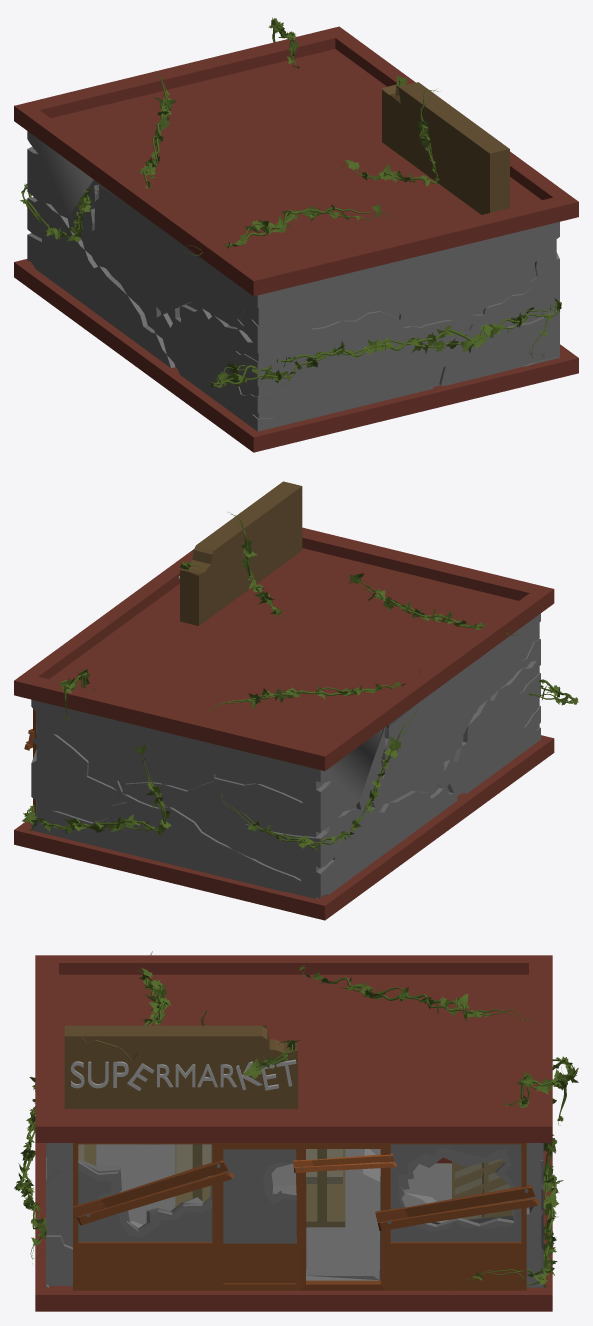
The model's file is Building9_Fix.fbx.
3 renders of one model, top to bottom at view 1: azimuth 30°, elevation 25°; view 2: azimuth 150°, elevation 25°; view 3: azimuth 270°, elevation 25°, orthographic. The views are drawn at different scales.
Parts seen in each view (by area): view 1: Cube.062, Cube.051, Cube.060, Cube.054, Vines.004; view 2: Cube.062, Cube.051, Cube.060, Cube.054, Vines.004; view 3: Cube.062, Cube.052, Cube.051, Cube.054, Cube.060, Vines.004, Wooden Planks.046, Wooden Planks.045, Cube.058, Wooden Planks.047, Cube.061, Cube.056 (+3 smaller).
Boxes of the visible parts, box(x1,y1,x2,y2) form: Cube.062: box(14, 26, 578, 296); Cube.051: box(27, 131, 559, 431); Cube.060: box(14, 259, 578, 452); Cube.054: box(382, 82, 509, 214); Vines.004: box(20, 17, 561, 387); Cube.062: box(14, 527, 554, 770); Cube.051: box(31, 613, 540, 898); Cube.060: box(14, 735, 554, 920); Cube.054: box(180, 481, 302, 625); Vines.004: box(22, 512, 578, 849); Cube.062: box(35, 955, 552, 1142); Cube.052: box(73, 1143, 526, 1290); Cube.051: box(46, 1143, 543, 1287); Cube.054: box(64, 1025, 297, 1108); Cube.060: box(35, 1143, 552, 1311); Vines.004: box(14, 951, 578, 1289); Wooden Planks.046: box(375, 1184, 539, 1231); Wooden Planks.045: box(73, 1160, 233, 1225); Cube.058: box(306, 1149, 345, 1227); Wooden Planks.047: box(293, 1153, 396, 1173); Cube.061: box(175, 1144, 211, 1206); Cube.056: box(452, 1161, 509, 1198).
Size of the model in its own units: 730 by 476 by 922.
